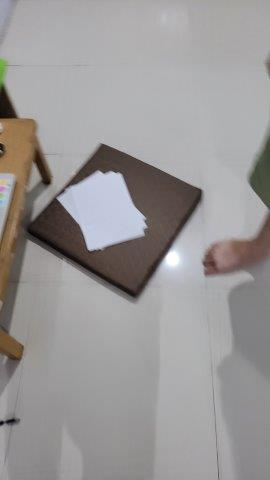kertas: (63, 169, 151, 247)
